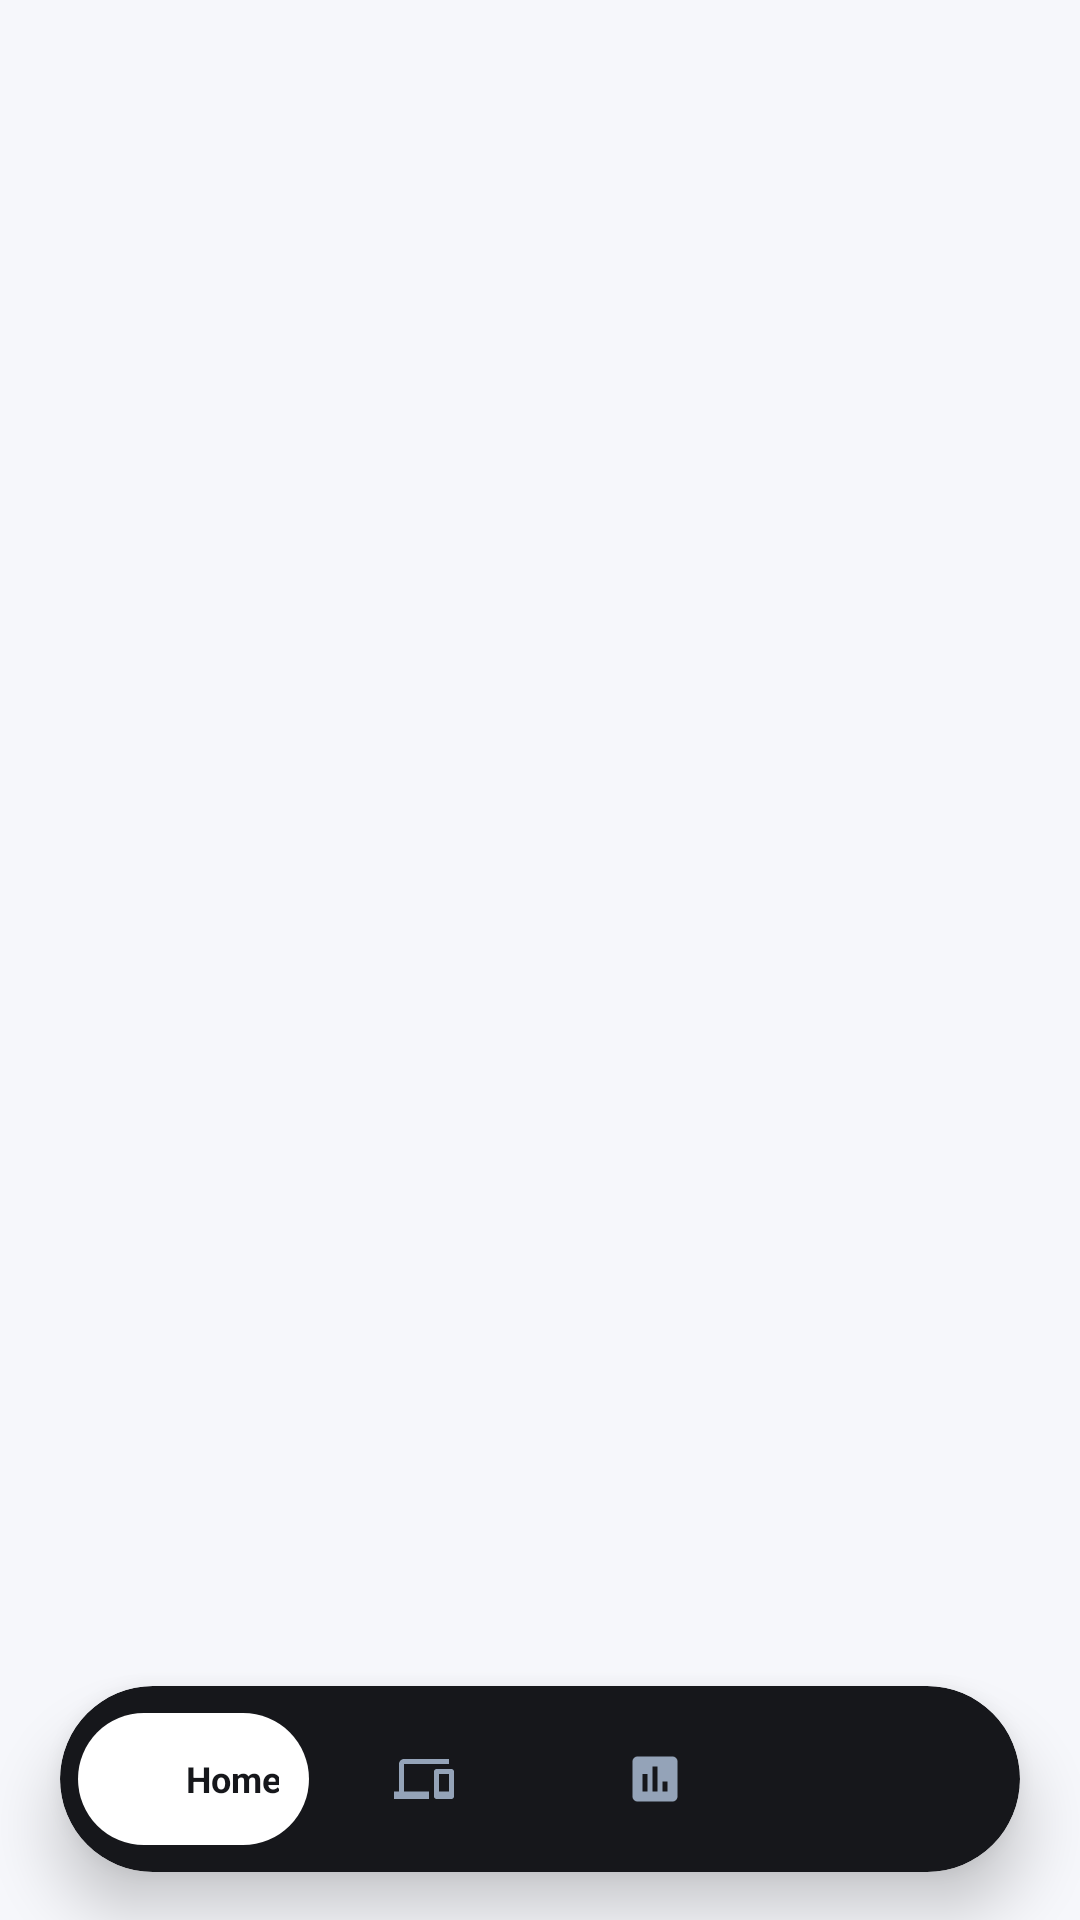

Icon click points for this 1080×1920 phone screenshot, format point (x, y):
analytics: point (655, 1779)
devices: point (424, 1779)
